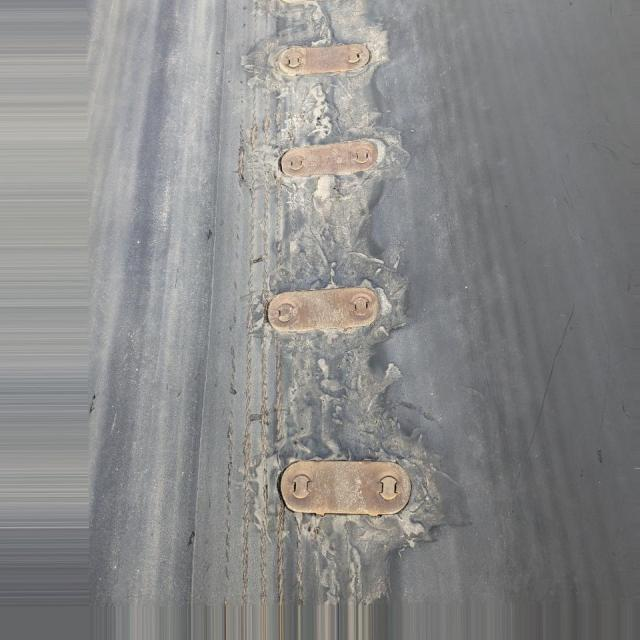patch work: (224, 17, 444, 567)
